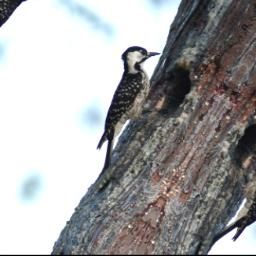Woodpecker: (64, 32, 191, 184)
